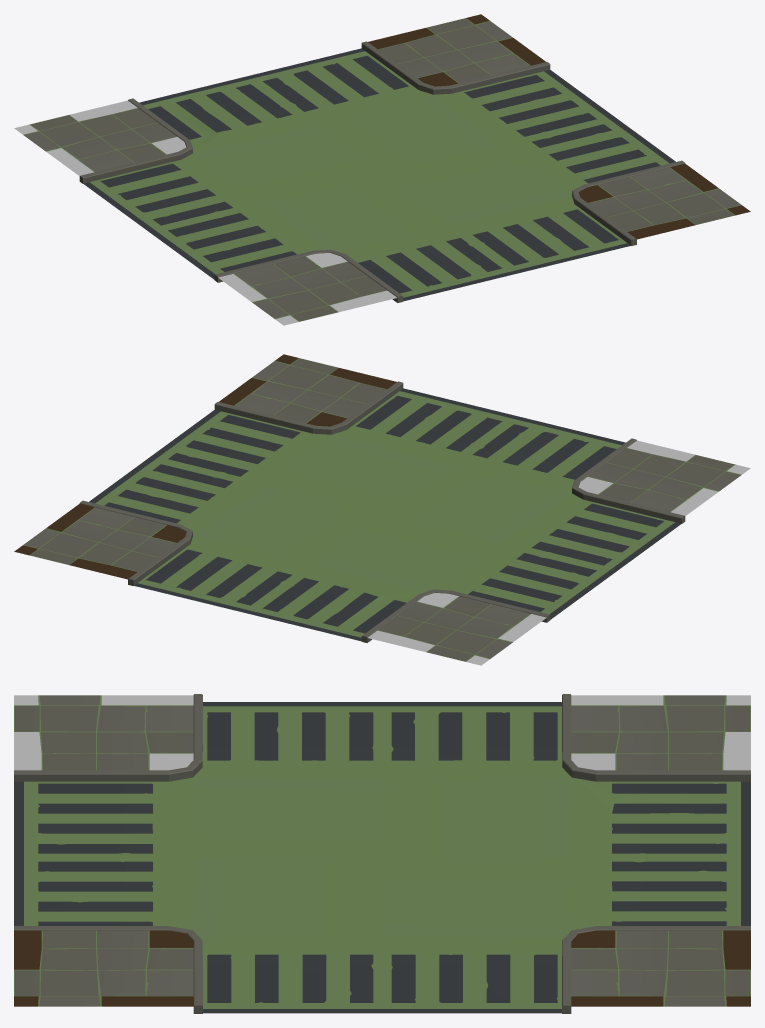
File: Road_41.fbx
3 renders of one model, top to bottom at view 1: azimuth 30°, elevation 25°; view 2: azimuth 150°, elevation 25°; view 3: azimuth 270°, elevation 25°, orthographic. The views are drawn at different scales.
Parts seen in each view (by area): view 1: Road_41; view 2: Road_41; view 3: Road_41.
Part boxes in pixels (x1,y1,x2,y2): Road_41: (14, 14, 750, 325); Road_41: (14, 354, 750, 665); Road_41: (14, 694, 750, 1013).
Size of the model in its own units: 12 by 0.15 by 12.
